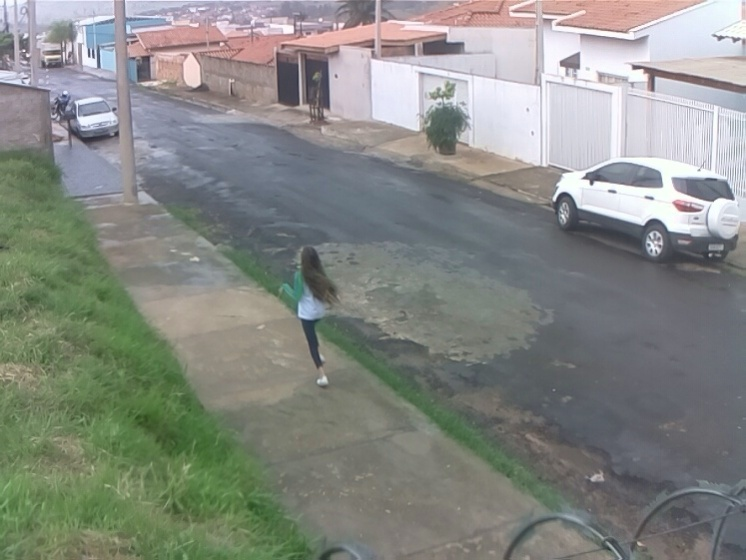person: (277, 244, 342, 388)
